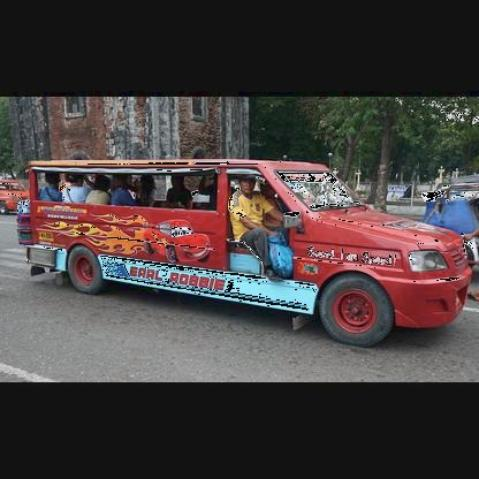jeepney: (17, 141, 465, 349)
